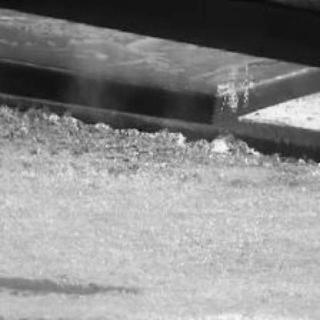Fire: (216, 77, 254, 111)
